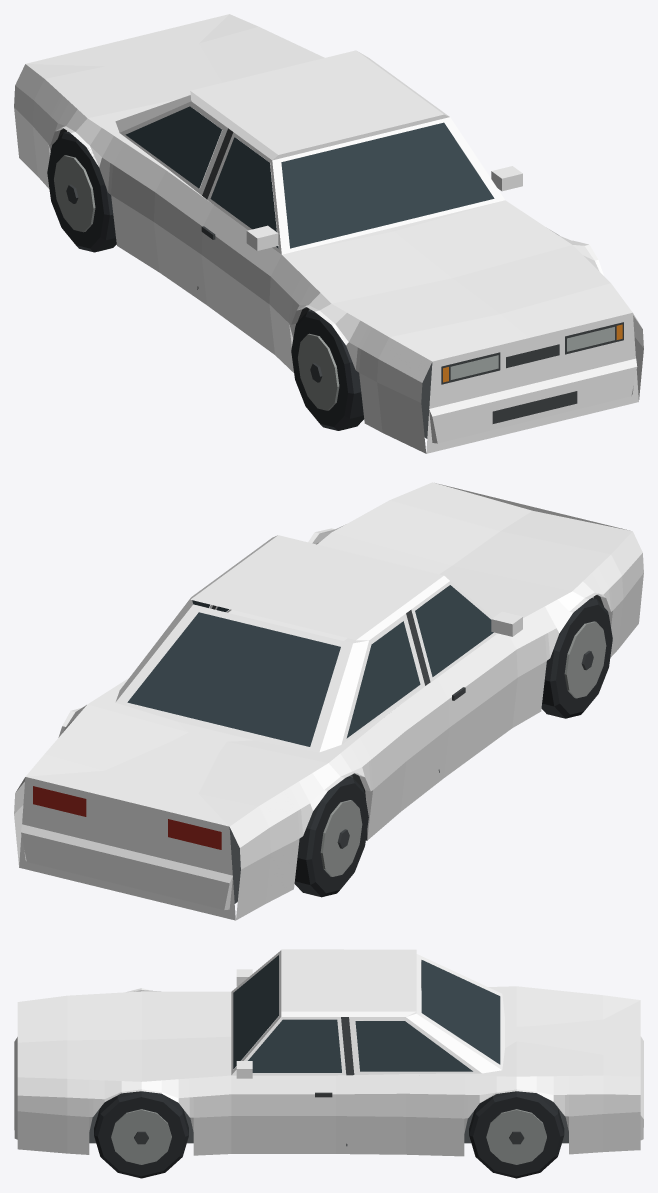
Rendered from wexmoor_shrike.glb.
3 views of the same model, one above another, from view 1: azimuth 30°, elevation 25°; view 2: azimuth 150°, elevation 25°; view 3: azimuth 270°, elevation 25° (orthographic). The views are drawn at different scales.
Parts seen in each view (by area): view 1: wexmoor_shrike; view 2: wexmoor_shrike; view 3: wexmoor_shrike.
Part boxes in pixels (x1=…): wexmoor_shrike: x1=14, y1=14, x2=643, y2=453; wexmoor_shrike: x1=14, y1=482, x2=643, y2=920; wexmoor_shrike: x1=14, y1=949, x2=643, y2=1178.
Size of the model in its own units: 1.82 by 1.23 by 4.7.
8 materials, 1 textured.
